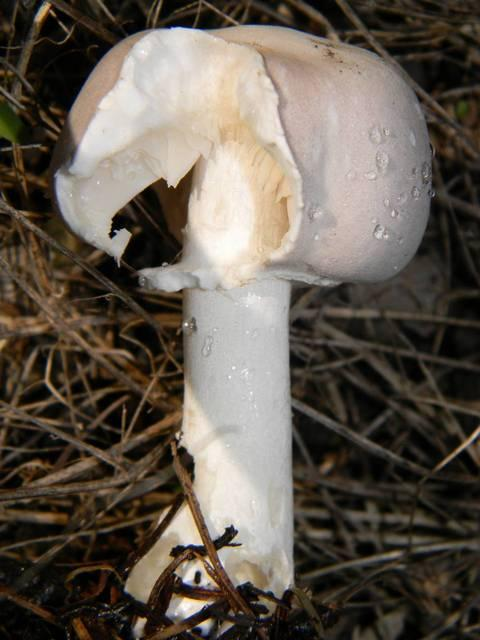poisonous_mushroom: (47, 22, 434, 637)
